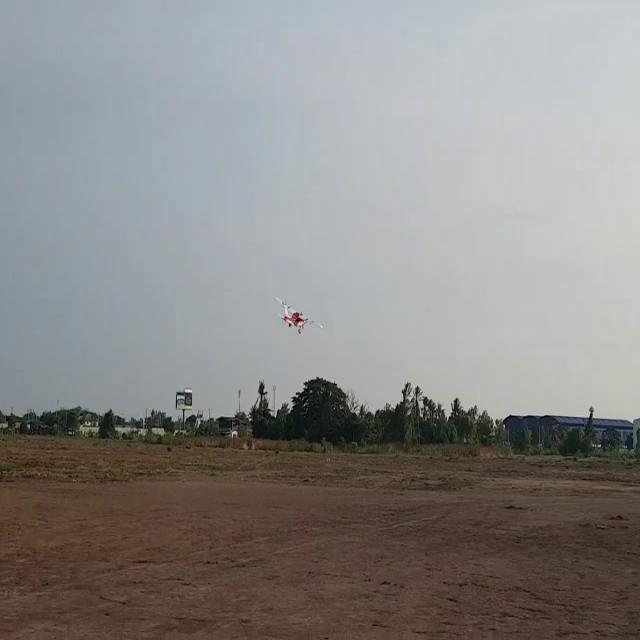iha: (278, 294, 324, 339)
